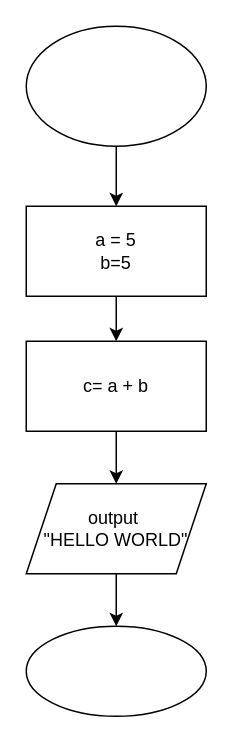
Some shapes in this 233 by 743 pixel diagram are drawn without their labels. The shapes that lost their labels are listed below. From the top down, each one's centre as x and y in pixels, then its label:
[115,85]: start
[115,670]: stop
